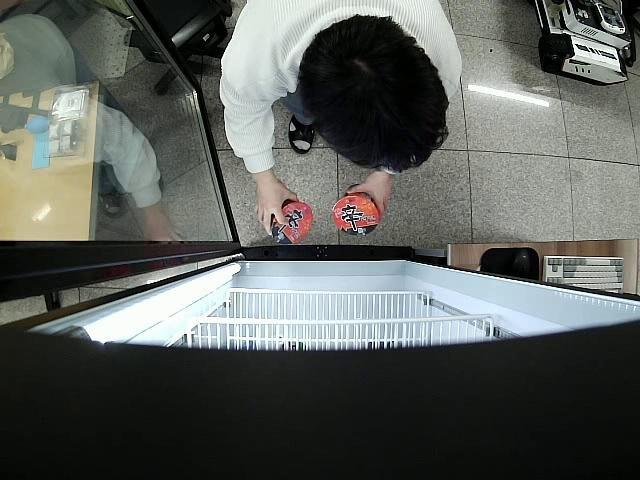01_ShinRamen_L: (331, 184, 380, 238), (270, 202, 314, 246)
